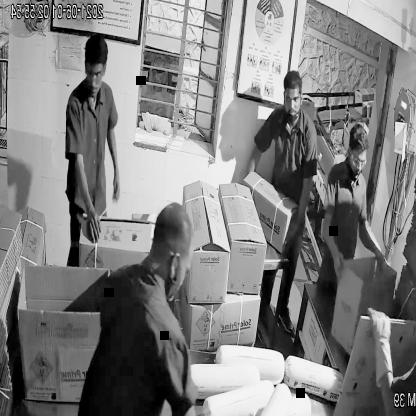goggles: (343, 147, 371, 175)
